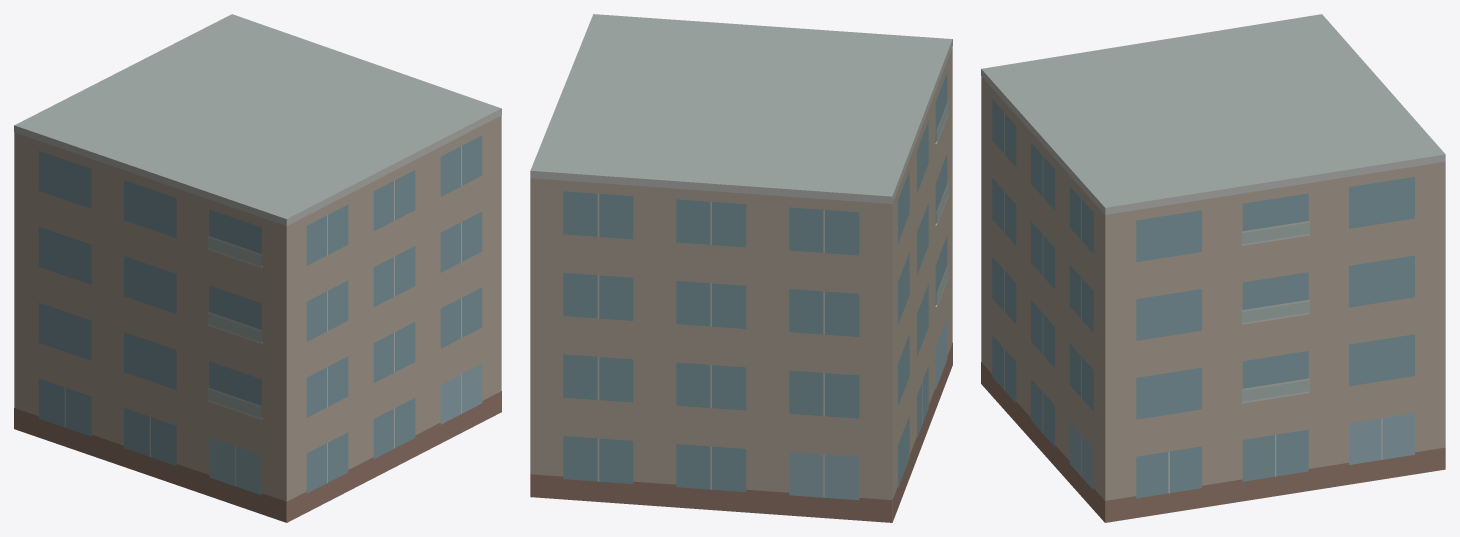
File: survey-upis-32943934.glb
The picture shows the model from 3 angles, left to right: view 1: azimuth 30°, elevation 25°; view 2: azimuth 150°, elevation 25°; view 3: azimuth 270°, elevation 25°; orthographic projection. The views are drawn at different scales.
Visible parts, largest first — view 1: survey-upis-32943934.tmp; view 2: survey-upis-32943934.tmp; view 3: survey-upis-32943934.tmp.
Part boxes in pixels (left/top/right/bottom): survey-upis-32943934.tmp: left=14, top=14, right=501, bottom=522; survey-upis-32943934.tmp: left=530, top=14, right=952, bottom=522; survey-upis-32943934.tmp: left=981, top=14, right=1445, bottom=522.
Bounding box in the file's own units: 14.13 × 10.7 × 14.31.
